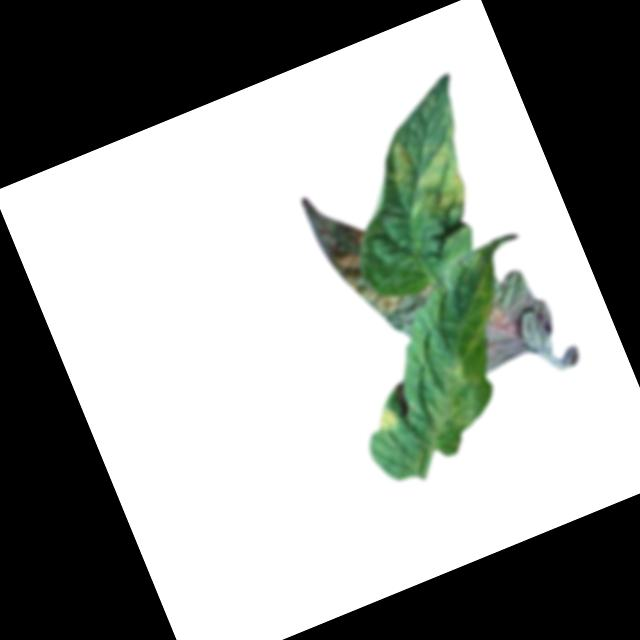Leaf_Mold: (376, 111, 487, 232), (454, 265, 562, 374), (300, 183, 387, 308), (361, 276, 445, 349), (372, 401, 402, 435)
